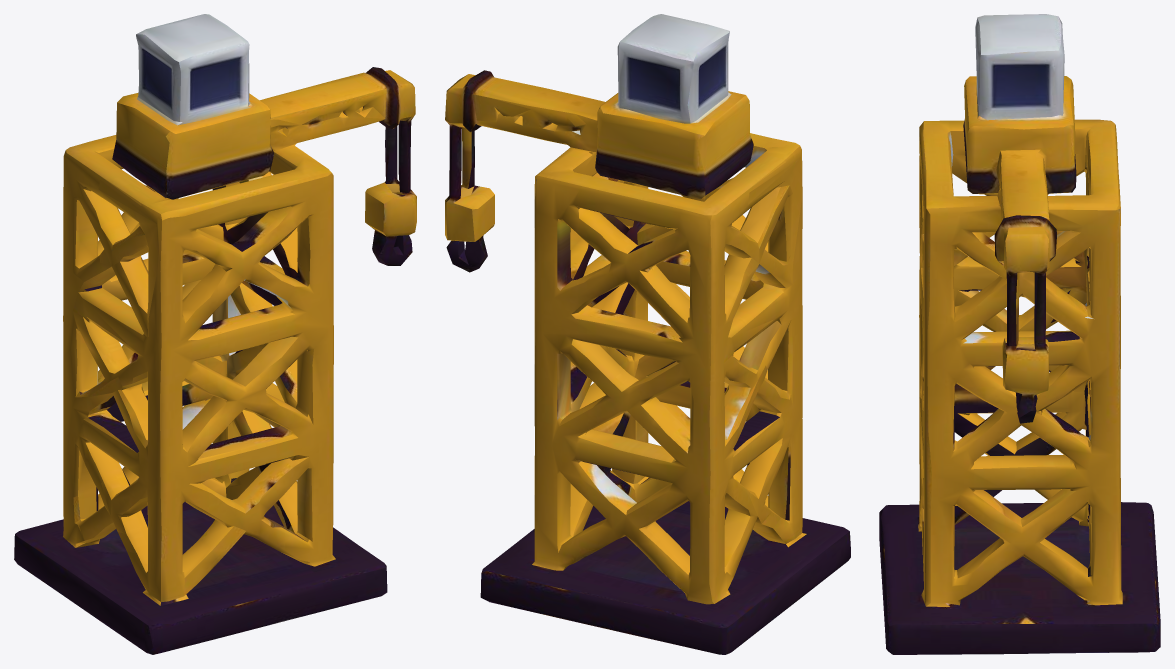
The model's file is dock_crane.glb.
The picture shows the model from 3 angles, left to right: view 1: azimuth 30°, elevation 25°; view 2: azimuth 150°, elevation 25°; view 3: azimuth 270°, elevation 25°; orthographic projection. The views are drawn at different scales.
Visible parts, largest first — view 1: dock_crane; view 2: dock_crane; view 3: dock_crane.
Part boxes in pixels (<box>): dock_crane: <box>14,14,416,654</box>; dock_crane: <box>445,14,850,654</box>; dock_crane: <box>879,14,1160,654</box>.
Size of the model in its own units: 0.6493 by 1 by 0.4559.
1 material, 1 textured.
